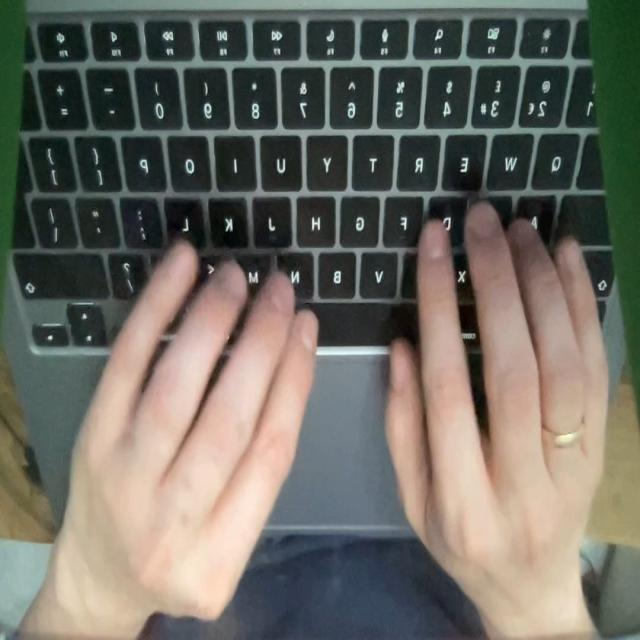keyboard-with-hands: (2, 0, 629, 544)
